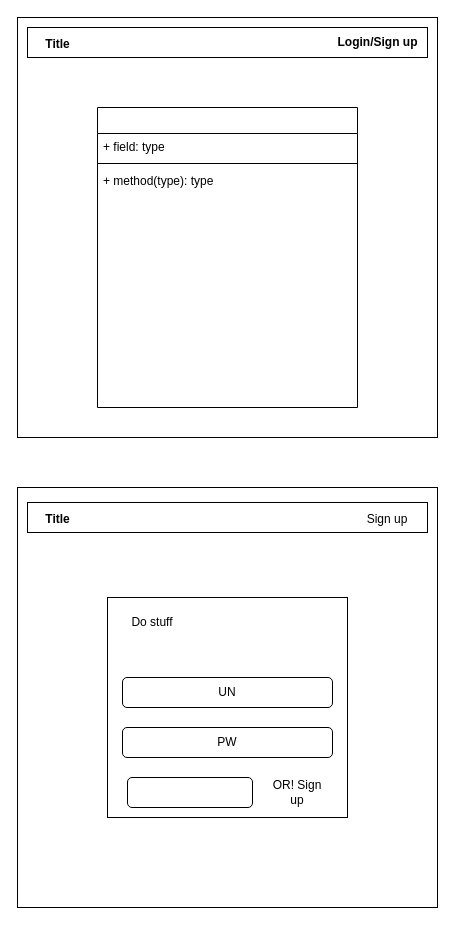
Image size: 455x925. Some labels were removed from this diagram. Here are the shapes that lost their labels. From the top down, the box of each, then its label:
(96, 106, 358, 408): Top 5!
(126, 776, 252, 808): Submit
